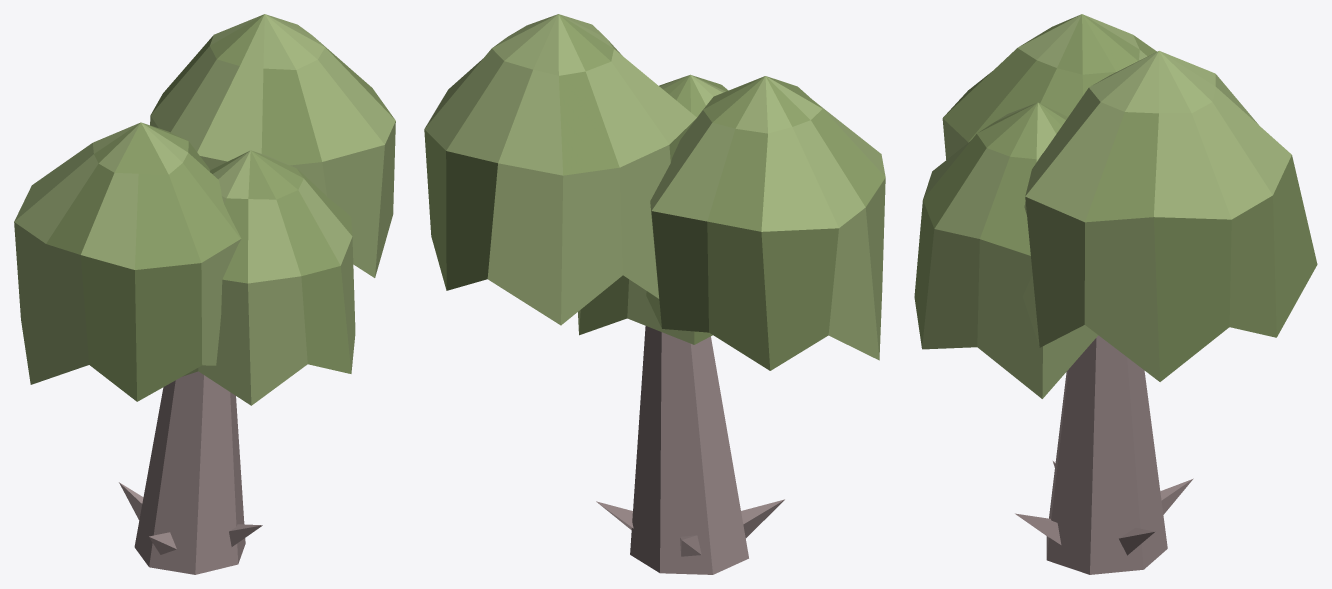
Rendered from tree_ironwood.glb.
3 views of the same model, side by side, from view 1: azimuth 30°, elevation 25°; view 2: azimuth 150°, elevation 25°; view 3: azimuth 270°, elevation 25° (orthographic). The views are drawn at different scales.
Parts seen in each view (by area): view 1: tree_ironwood; view 2: tree_ironwood; view 3: tree_ironwood.
Boxes of the visible parts, <box> form: tree_ironwood: <box>14,14,395,574</box>; tree_ironwood: <box>424,14,885,574</box>; tree_ironwood: <box>914,14,1317,574</box>.
Size of the model in its own units: 4.34 by 5.64 by 3.66.
